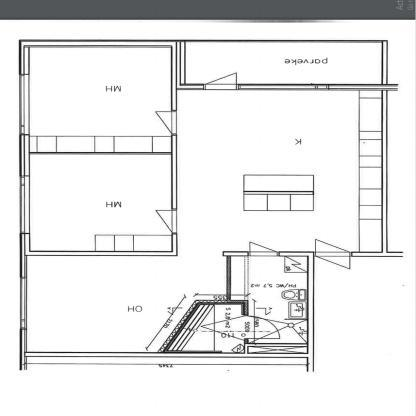bathroom: (227, 251, 312, 354)
door: (306, 236, 360, 275), (236, 314, 281, 342), (201, 69, 246, 92), (150, 207, 185, 236), (149, 110, 182, 138), (245, 239, 286, 260)
perimeter: (17, 40, 390, 360)
window: (10, 72, 36, 136), (12, 172, 36, 240)
